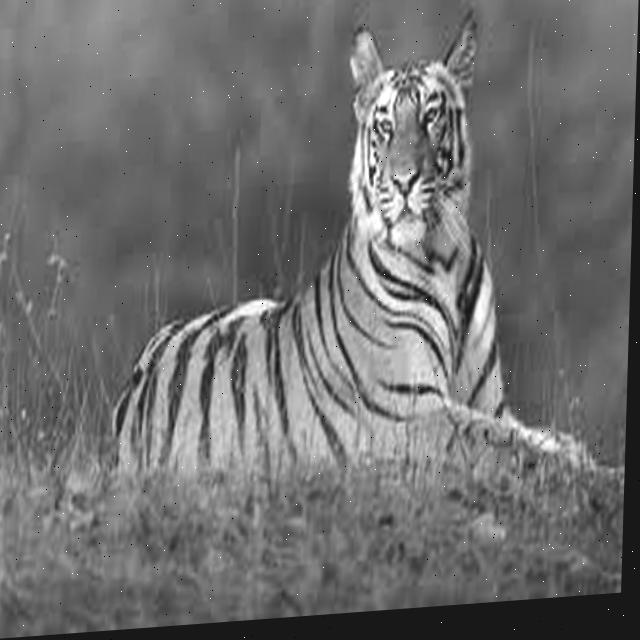Tiger: (104, 0, 638, 557)
